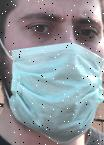with_mask: (1, 1, 104, 145)
